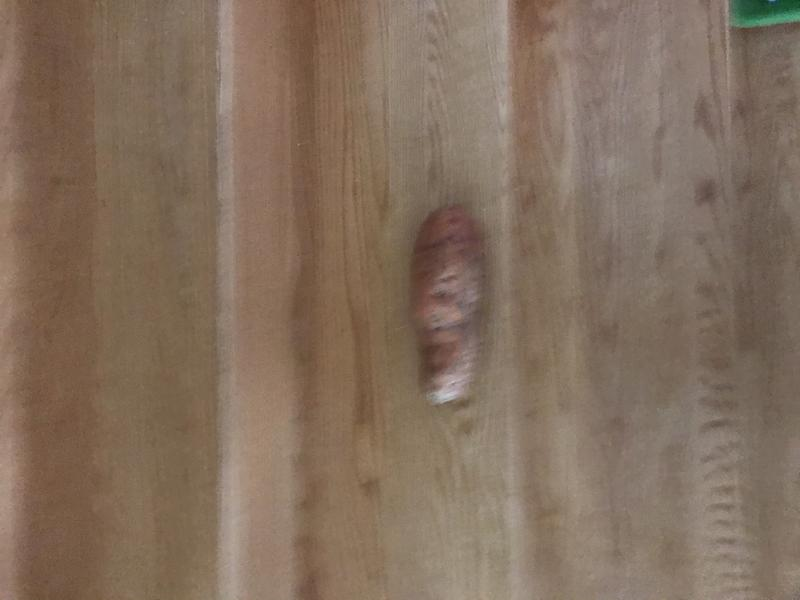sweet_potato: (400, 193, 501, 417)
